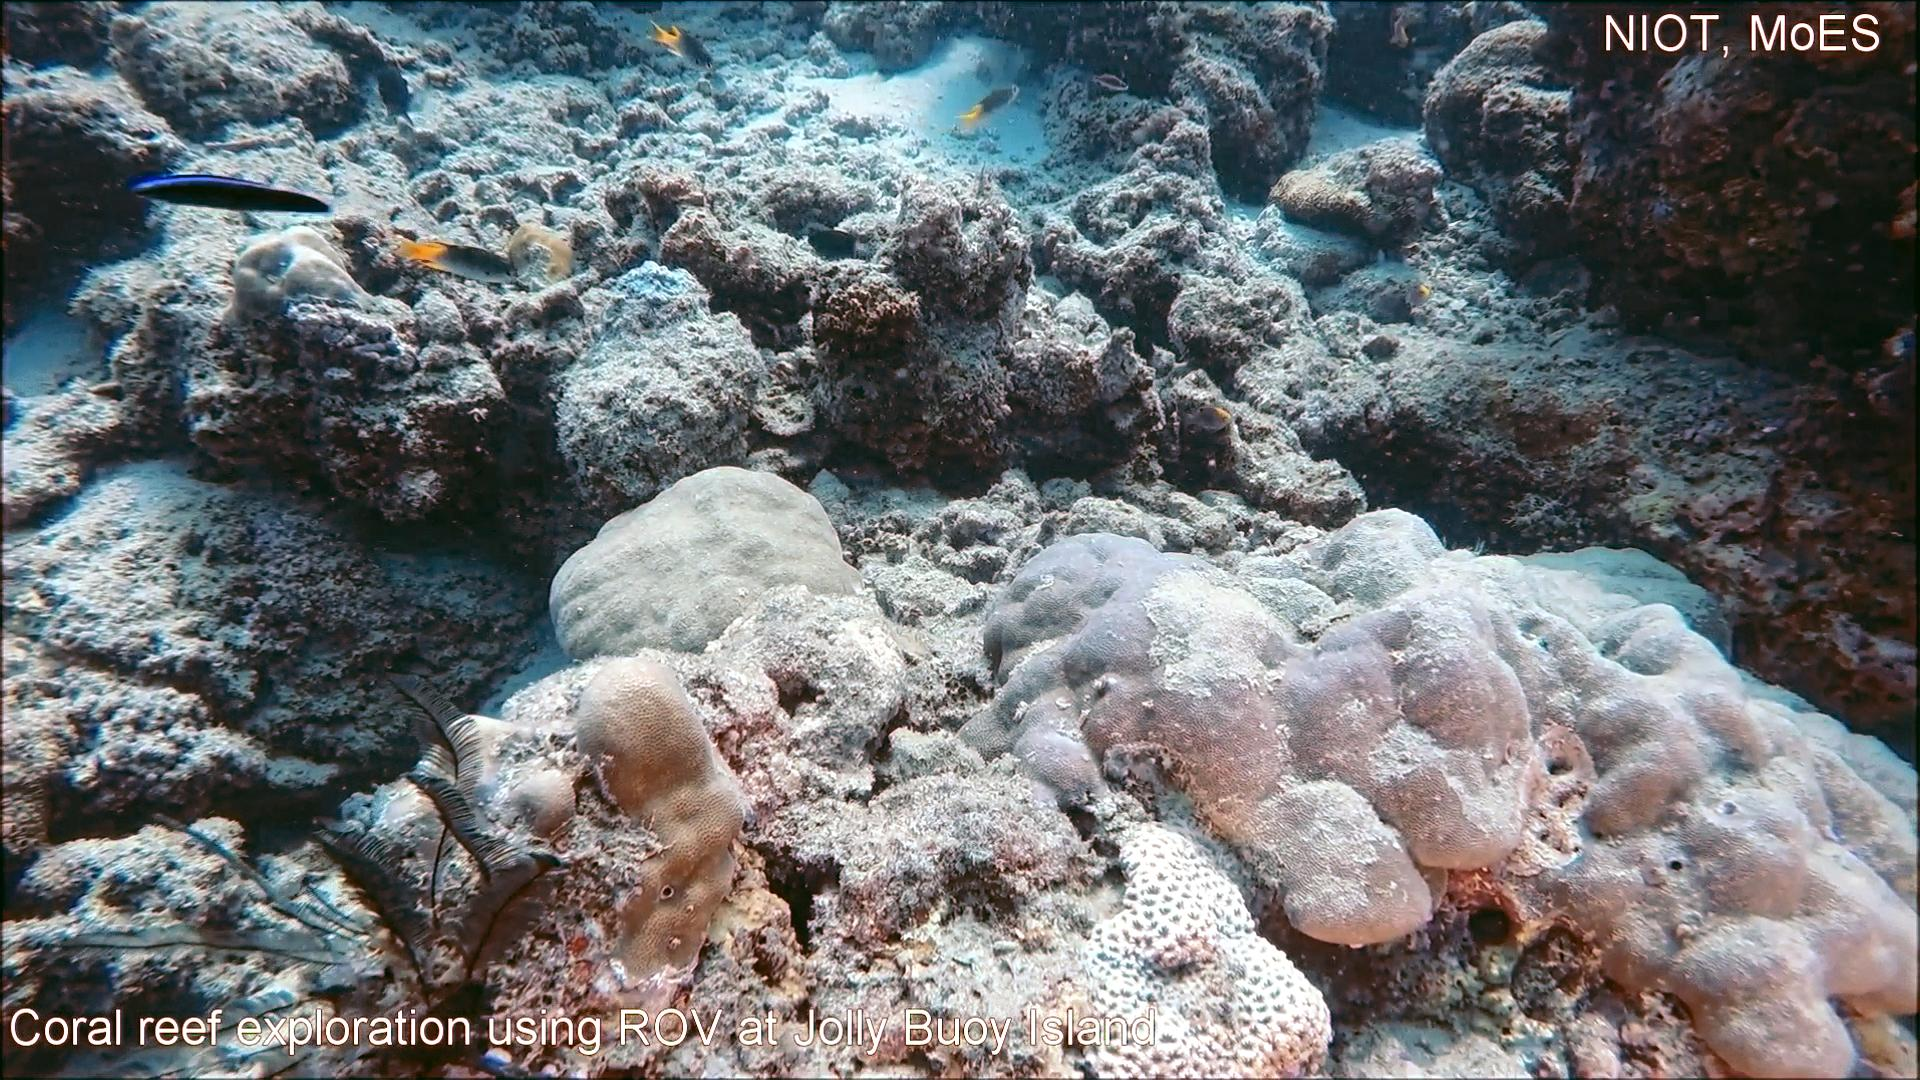Feather star-Crinoid star: (22, 649, 587, 1080)
Goniastrea-Goniastrea pectinata: (1068, 812, 1340, 1080)
Porites-Porites pukoensis: (1400, 496, 1920, 1080)
Turbinaria-Turbinaria stellulata: (4, 704, 76, 861)
